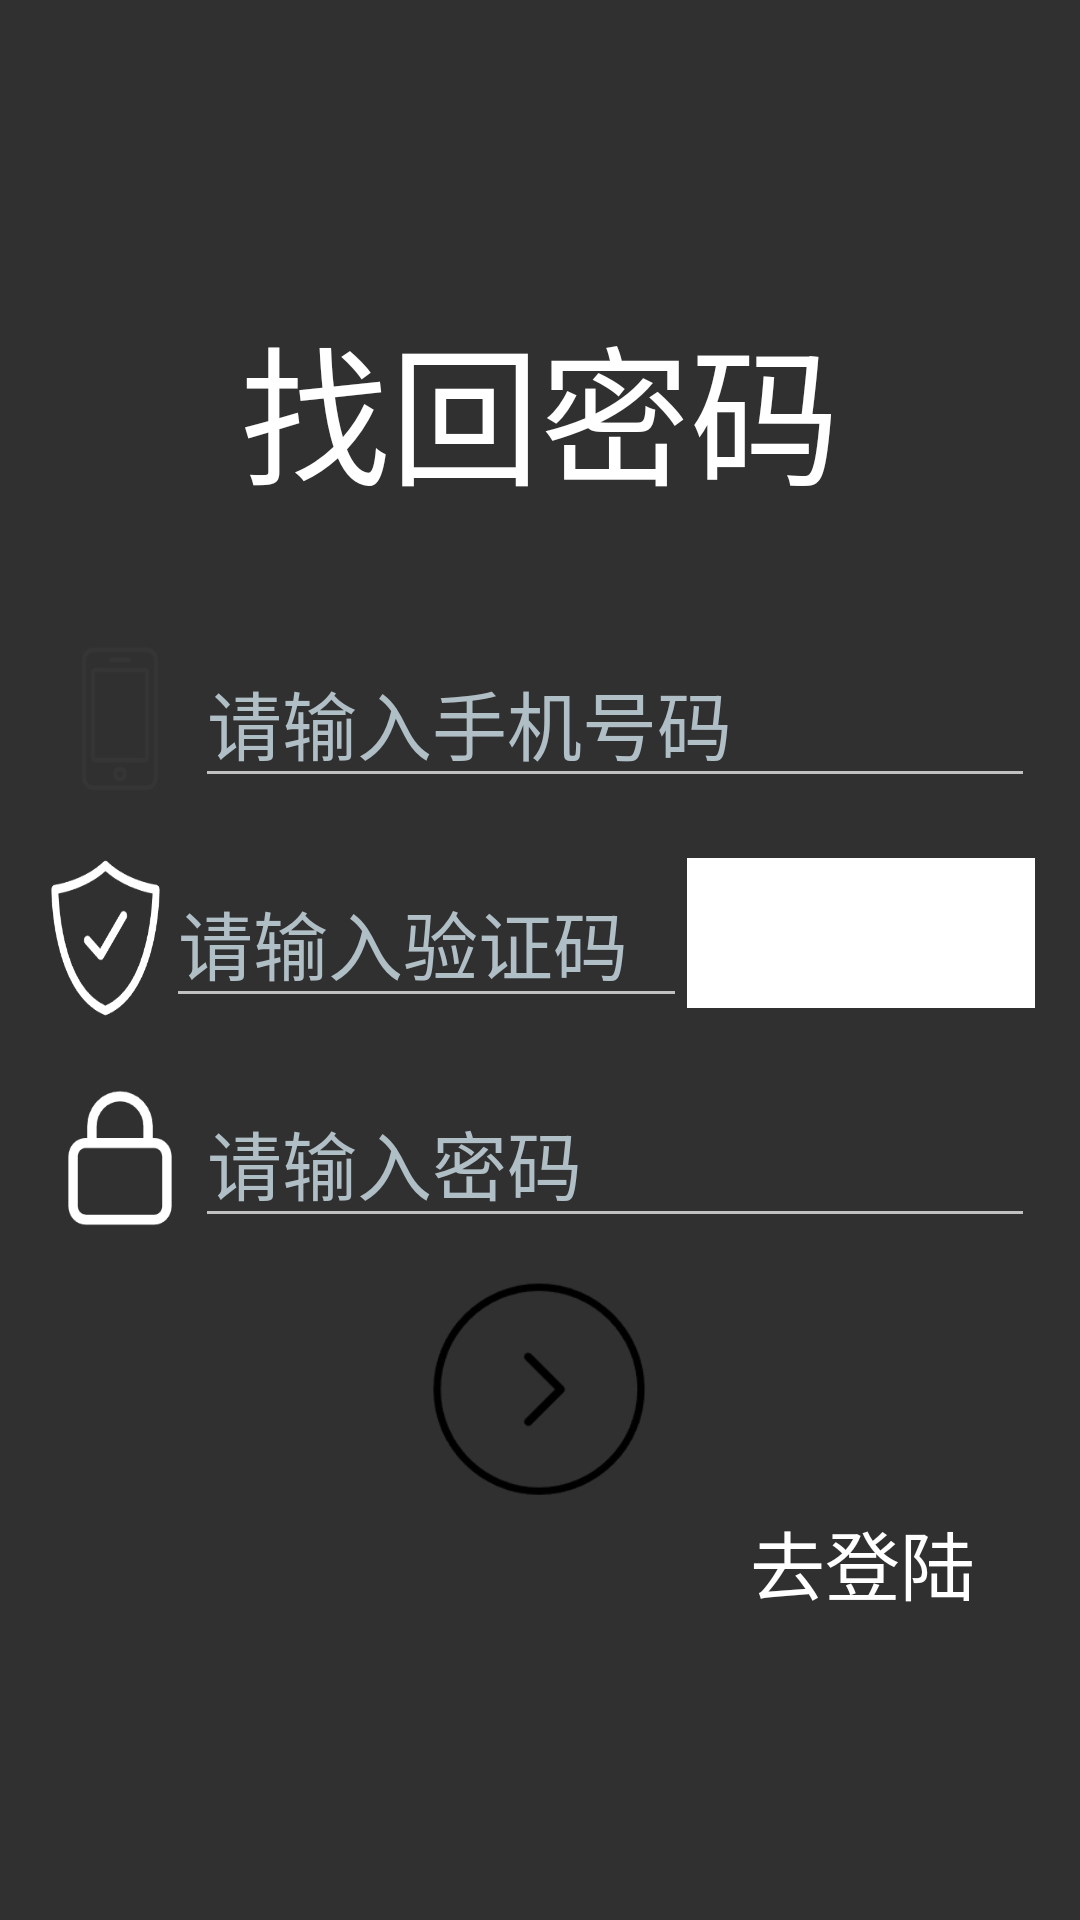

Named icons in this screenshot (1080 × 1920) and their centers, point (x, y):
password: point (120, 1158)
queren: point (538, 1389)
